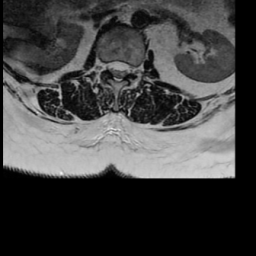CCS_normal: (114, 52, 121, 87)
LFS_normal: (129, 57, 136, 80)
LLS_normal: (121, 56, 129, 80)
RFS_normal: (100, 52, 106, 78)
RLS_normal: (106, 53, 114, 78)
